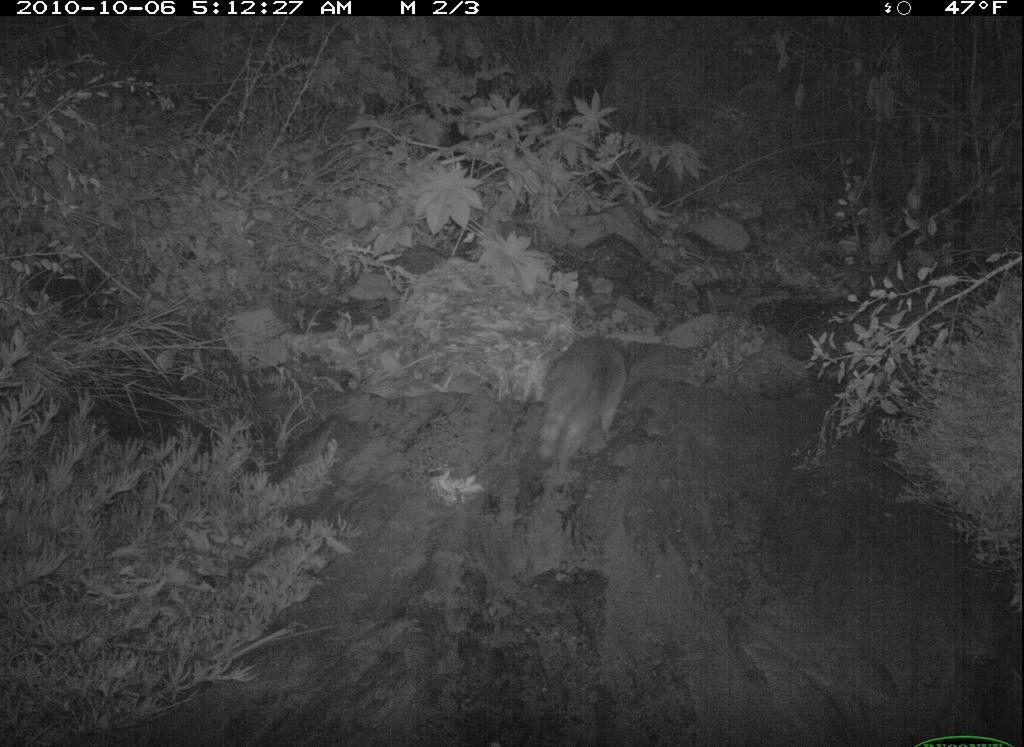raccoon: (529, 331, 637, 484)
